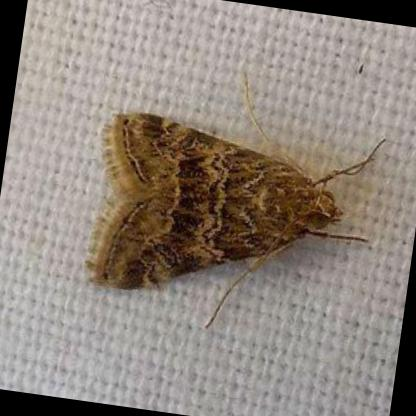Hellula undalis: (80, 66, 392, 331)
